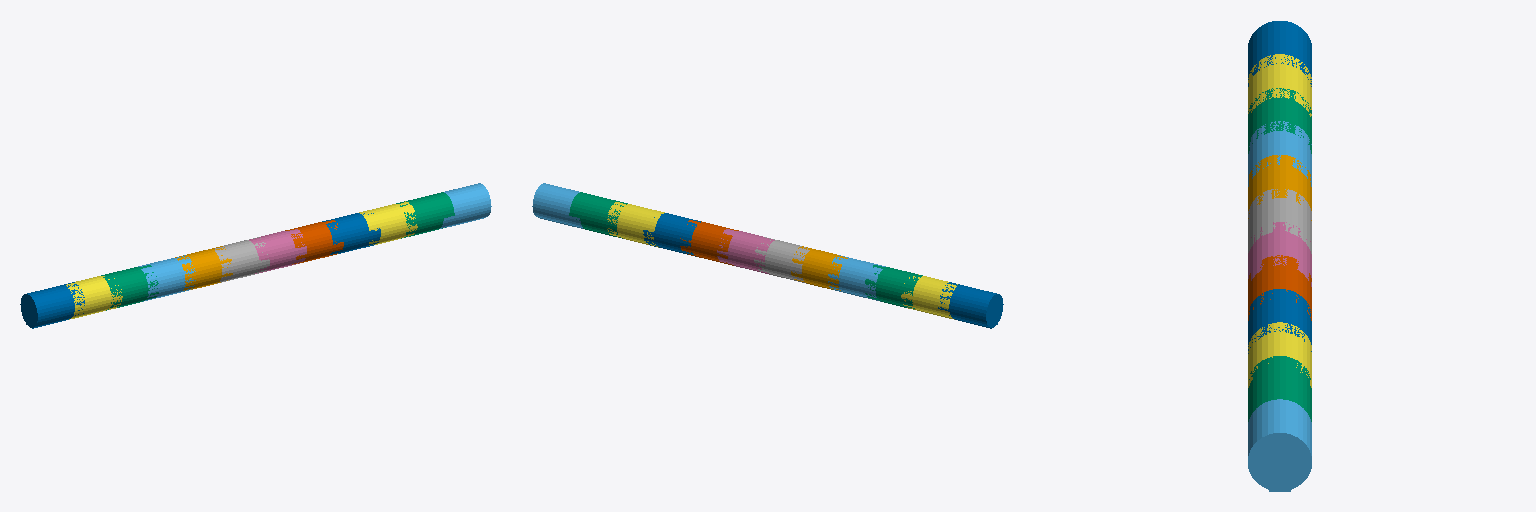
URDF robot description (kiro_v2):
<?xml version="1.0" ?>
<robot name="kiro_v2">

  <!-- URDF -->
  <!-- Author : [author] -->
  <!-- Created Date : 2020 OCTOBER -->
  <!-- E-mail : [email redacted] -->
  <link name="base_footprint"/>

  <joint name="base_joint" type="fixed">
    <parent link="base_footprint"/>
    <child link="1_head"/>
    <origin xyz="0.0 0.0 0.0" rpy="0.0 0.0 0.0"/>
  </joint>

  <link name="1_head">
    <inertial>
      <mass value="0.192"/>
      <origin rpy="0  0  0" xyz="0  0  0"/>
      <inertia ixx="390949e-9" ixy="-59e-9" ixz="346e-9" iyy="400197e-9" iyz="355e-9" izz="73725e-9"/>
    </inertial>
    <collision name="1_head_collision">
      <origin rpy="0       1.57079  0" xyz="0     0     0.029"/>
      <geometry>
        <cylinder length=".092" radius=".029"/>
      </geometry>
    </collision>
    <collision name="1_head_pad_collision">
      <origin rpy="0       1.57079  0" xyz="0      0      0.0025"/>
      <geometry>
        <box size="0.005 0.020 0.092"/>
      </geometry>
    </collision>
    <visual name="1_head_visual">
      <origin rpy="0       1.57079  0" xyz="0     0     0.029"/>
      <geometry>
        <cylinder length=".092" radius=".029"/>
      </geometry>
      <material name="light_black"/>
    </visual>
    <visual name="1_head_pad_visual">
      <origin rpy="0       1.57079  0" xyz="0      0      0.0025"/>
      <geometry>
        <box size="0.005 0.020 0.092"/>
      </geometry>
    </visual>
  </link>

  <link name="2_link">
    <inertial>
      <mass value="0.192"/>
      <origin rpy="0  0  0" xyz="0  0  0"/>
      <inertia ixx="390949e-9" ixy="-59e-9" ixz="346e-9" iyy="400197e-9" iyz="355e-9" izz="73725e-9"/>
    </inertial>
    <collision name="2_link_collision">
      <origin rpy="0  0  0" xyz="0     0    -0.046"/>
      <geometry>
        <cylinder length=".071" radius=".029"/>
      </geometry>
    </collision>
    <collision name="2_link_pad_collision">
      <origin rpy="0  0  0" xyz="0.0265  0     -0.046"/>
      <geometry>
        <box size="0.005 0.020 0.071"/>
      </geometry>
    </collision>
    <visual name="2_link_visual">
      <origin rpy="0  0  0" xyz="0       0      -0.03549"/>
      <geometry>
        <cylinder length=".092" radius=".029"/>
      </geometry>
    </visual>
    <visual name="2_link_pad_visual">
      <origin rpy="0  0  0" xyz="0.0265   0      -0.03549"/>
      <geometry>
        <box size="0.005 0.020 0.092"/>
      </geometry>
    </visual>
  </link>

  <link name="3_link">
    <inertial>
      <mass value="0.192"/>
      <origin rpy="0  0  0" xyz="0  0  0"/>
      <inertia ixx="390949e-9" ixy="-59e-9" ixz="346e-9" iyy="400197e-9" iyz="355e-9" izz="73725e-9"/>
    </inertial>
    <collision name="3_link_collision">
      <origin rpy="0  0  0" xyz="0     0    -0.046"/>
      <geometry>
        <cylinder length=".071" radius=".029"/>
      </geometry>
    </collision>
    <collision name="3_link_pad_collision">
      <origin rpy="0  0  0" xyz="0.0265  0     -0.046"/>
      <geometry>
        <box size="0.005 0.020 0.071"/>
      </geometry>
    </collision>
    <visual name="3_link_visual">
      <origin rpy="0  0  0" xyz="0       0      -0.03549"/>
      <geometry>
        <cylinder length=".092" radius=".029"/>
      </geometry>
      <material name="light_black"/>
    </visual>
    <visual name="3_link_pad_visual">
      <origin rpy="0  0  0" xyz="0.0265   0      -0.03549"/>
      <geometry>
        <box size="0.005 0.020 0.092"/>
      </geometry>
    </visual>
  </link>

  <link name="4_link">
    <inertial>
      <mass value="0.192"/>
      <origin rpy="0  0  0" xyz="0  0  0"/>
      <inertia ixx="390949e-9" ixy="-59e-9" ixz="346e-9" iyy="400197e-9" iyz="355e-9" izz="73725e-9"/>
    </inertial>
    <collision name="4_link_collision">
      <origin rpy="0  0  0" xyz="0     0    -0.046"/>
      <geometry>
        <cylinder length=".071" radius=".029"/>
      </geometry>
    </collision>
    <collision name="4_link_pad_collision">
      <origin rpy="0  0  0" xyz="0.0265  0     -0.046"/>
      <geometry>
        <box size="0.005 0.020 0.071"/>
      </geometry>
    </collision>
    <visual name="4_link_visual">
      <origin rpy="0  0  0" xyz="0       0      -0.03549"/>
      <geometry>
        <cylinder length=".092" radius=".029"/>
      </geometry>
    </visual>
    <visual name="4_link_pad_visual">
      <origin rpy="0  0  0" xyz="0.0265   0      -0.03549"/>
      <geometry>
        <box size="0.005 0.020 0.092"/>
      </geometry>
    </visual>
  </link>

  <link name="5_link">
    <inertial>
      <mass value="0.192"/>
      <origin rpy="0  0  0" xyz="0  0  0"/>
      <inertia ixx="390949e-9" ixy="-59e-9" ixz="346e-9" iyy="400197e-9" iyz="355e-9" izz="73725e-9"/>
    </inertial>
    <collision name="5_link_collision">
      <origin rpy="0  0  0" xyz="0     0    -0.046"/>
      <geometry>
        <cylinder length=".071" radius=".029"/>
      </geometry>
    </collision>
    <collision name="5_link_pad_collision">
      <origin rpy="0  0  0" xyz="0.0265  0     -0.046"/>
      <geometry>
        <box size="0.005 0.020 0.071"/>
      </geometry>
    </collision>
    <visual name="5_link_visual">
      <origin rpy="0  0  0" xyz="0       0      -0.03549"/>
      <geometry>
        <cylinder length=".092" radius=".029"/>
      </geometry>
      <material name="light_black"/>
    </visual>
    <visual name="5_link_pad_visual">
      <origin rpy="0  0  0" xyz="0.0265   0      -0.03549"/>
      <geometry>
        <box size="0.005 0.020 0.092"/>
      </geometry>
    </visual>
  </link>

  <link name="6_link">
    <inertial>
      <mass value="0.192"/>
      <origin rpy="0  0  0" xyz="0  0  0"/>
      <inertia ixx="390949e-9" ixy="-59e-9" ixz="346e-9" iyy="400197e-9" iyz="355e-9" izz="73725e-9"/>
    </inertial>
    <collision name="6_link_collision">
      <origin rpy="0  0  0" xyz="0     0    -0.046"/>
      <geometry>
        <cylinder length=".071" radius=".029"/>
      </geometry>
    </collision>
    <collision name="6_link_pad_collision">
      <origin rpy="0  0  0" xyz="0.0265  0     -0.046"/>
      <geometry>
        <box size="0.005 0.020 0.071"/>
      </geometry>
    </collision>
    <visual name="6_link_visual">
      <origin rpy="0  0  0" xyz="0       0      -0.03549"/>
      <geometry>
        <cylinder length=".092" radius=".029"/>
      </geometry>
    </visual>
    <visual name="6_link_pad_visual">
      <origin rpy="0  0  0" xyz="0.0265   0      -0.03549"/>
      <geometry>
        <box size="0.005 0.020 0.092"/>
      </geometry>
    </visual>
  </link>

  <link name="7_link">
    <inertial>
      <mass value="0.192"/>
      <origin rpy="0  0  0" xyz="0  0  0"/>
      <inertia ixx="390949e-9" ixy="-59e-9" ixz="346e-9" iyy="400197e-9" iyz="355e-9" izz="73725e-9"/>
    </inertial>
    <collision name="7_link_collision">
      <origin rpy="0  0  0" xyz="0     0    -0.046"/>
      <geometry>
        <cylinder length=".071" radius=".029"/>
      </geometry>
    </collision>
    <collision name="7_link_pad_collision">
      <origin rpy="0  0  0" xyz="0.0265  0     -0.046"/>
      <geometry>
        <box size="0.005 0.020 0.071"/>
      </geometry>
    </collision>
    <visual name="7_link_visual">
      <origin rpy="0  0  0" xyz="0       0      -0.03549"/>
      <geometry>
        <cylinder length=".092" radius=".029"/>
      </geometry>
      <material name="light_black"/>
    </visual>
    <visual name="7_link_pad_visual">
      <origin rpy="0  0  0" xyz="0.0265   0      -0.03549"/>
      <geometry>
        <box size="0.005 0.020 0.092"/>
      </geometry>
    </visual>
  </link>

  <link name="8_link">
    <inertial>
      <mass value="0.192"/>
      <origin rpy="0  0  0" xyz="0  0  0"/>
      <inertia ixx="390949e-9" ixy="-59e-9" ixz="346e-9" iyy="400197e-9" iyz="355e-9" izz="73725e-9"/>
    </inertial>
    <collision name="8_link_collision">
      <origin rpy="0  0  0" xyz="0     0    -0.046"/>
      <geometry>
        <cylinder length=".071" radius=".029"/>
      </geometry>
    </collision>
    <collision name="8_link_pad_collision">
      <origin rpy="0  0  0" xyz="0.0265  0     -0.046"/>
      <geometry>
        <box size="0.005 0.020 0.071"/>
      </geometry>
    </collision>
    <visual name="8_link_visual">
      <origin rpy="0  0  0" xyz="0       0      -0.03549"/>
      <geometry>
        <cylinder length=".092" radius=".029"/>
      </geometry>
    </visual>
    <visual name="8_link_pad_visual">
      <origin rpy="0  0  0" xyz="0.0265   0      -0.03549"/>
      <geometry>
        <box size="0.005 0.020 0.092"/>
      </geometry>
    </visual>
  </link>

  <link name="9_link">
    <inertial>
      <mass value="0.192"/>
      <origin rpy="0  0  0" xyz="0  0  0"/>
      <inertia ixx="390949e-9" ixy="-59e-9" ixz="346e-9" iyy="400197e-9" iyz="355e-9" izz="73725e-9"/>
    </inertial>
    <collision name="9_link_collision">
      <origin rpy="0  0  0" xyz="0     0    -0.046"/>
      <geometry>
        <cylinder length=".071" radius=".029"/>
      </geometry>
    </collision>
    <collision name="9_link_pad_collision">
      <origin rpy="0  0  0" xyz="0.0265  0     -0.046"/>
      <geometry>
        <box size="0.005 0.020 0.071"/>
      </geometry>
    </collision>
    <visual name="9_link_visual">
      <origin rpy="0  0  0" xyz="0       0      -0.03549"/>
      <geometry>
        <cylinder length=".092" radius=".029"/>
      </geometry>
      <material name="light_black"/>
    </visual>
    <visual name="9_link_pad_visual">
      <origin rpy="0  0  0" xyz="0.0265   0      -0.03549"/>
      <geometry>
        <box size="0.005 0.020 0.092"/>
      </geometry>
    </visual>
  </link>

  <link name="10_link">
    <inertial>
      <mass value="0.192"/>
      <origin rpy="0  0  0" xyz="0  0  0"/>
      <inertia ixx="390949e-9" ixy="-59e-9" ixz="346e-9" iyy="400197e-9" iyz="355e-9" izz="73725e-9"/>
    </inertial>
    <collision name="10_link_collision">
      <origin rpy="0  0  0" xyz="0     0    -0.046"/>
      <geometry>
        <cylinder length=".071" radius=".029"/>
      </geometry>
    </collision>
    <collision name="10_link_pad_collision">
      <origin rpy="0  0  0" xyz="0.0265  0     -0.046"/>
      <geometry>
        <box size="0.005 0.020 0.071"/>
      </geometry>
    </collision>
    <visual name="10_link_visual">
      <origin rpy="0  0  0" xyz="0       0      -0.03549"/>
      <geometry>
        <cylinder length=".092" radius=".029"/>
      </geometry>
    </visual>
    <visual name="10_link_pad_visual">
      <origin rpy="0  0  0" xyz="0.0265   0      -0.03549"/>
      <geometry>
        <box size="0.005 0.020 0.092"/>
      </geometry>
    </visual>
  </link>

  <link name="11_link">
    <inertial>
      <mass value="0.192"/>
      <origin rpy="0  0  0" xyz="0  0  0"/>
      <inertia ixx="390949e-9" ixy="-59e-9" ixz="346e-9" iyy="400197e-9" iyz="355e-9" izz="73725e-9"/>
    </inertial>
    <collision name="11_link_collision">
      <origin rpy="0  0  0" xyz="0     0    -0.046"/>
      <geometry>
        <cylinder length=".071" radius=".029"/>
      </geometry>
    </collision>
    <collision name="11_link_pad_collision">
      <origin rpy="0  0  0" xyz="0.0265  0     -0.046"/>
      <geometry>
        <box size="0.005 0.020 0.071"/>
      </geometry>
    </collision>
    <visual name="11_link_visual">
      <origin rpy="0  0  0" xyz="0       0      -0.03549"/>
      <geometry>
        <cylinder length=".092" radius=".029"/>
      </geometry>
      <material name="light_black"/>
    </visual>
    <visual name="11_link_pad_visual">
      <origin rpy="0  0  0" xyz="0.0265   0      -0.03549"/>
      <geometry>
        <box size="0.005 0.020 0.092"/>
      </geometry>
    </visual>
  </link>

  <link name="12_tail">
    <inertial>
      <mass value="0.192"/>
      <origin rpy="0  0  0" xyz="0  0  0"/>
      <inertia ixx="390949e-9" ixy="-59e-9" ixz="346e-9" iyy="400197e-9" iyz="355e-9" izz="73725e-9"/>
    </inertial>
    <collision name="12_tail_collision">
      <origin rpy="0  0  0" xyz="0     0    -0.046"/>
      <geometry>
        <cylinder length=".071" radius=".029"/>
      </geometry>
    </collision>
    <collision name="12_tail_pad_collision">
      <origin rpy="0  0  0" xyz="0.0265  0     -0.046"/>
      <geometry>
        <box size="0.005 0.020 0.071"/>
      </geometry>
    </collision>
    <visual name="12_tail_visual">
      <origin rpy="0  0  0" xyz="0       0      -0.03549"/>
      <geometry>
        <cylinder length=".092" radius=".029"/>
      </geometry>
    </visual>
    <visual name="12_tail_pad_visual">
      <origin rpy="0  0  0" xyz="0.0265   0      -0.03549"/>
      <geometry>
        <box size="0.005 0.020 0.092"/>
      </geometry>
    </visual>
  </link>

  <joint name="1_joint" type="revolute">
    <parent link="1_head"/>
    <child link="2_link"/>
    <origin rpy="0       1.57079  0" xyz="-0.03549  0       0.029"/>
    <axis xyz="0  1  0"/>
    <limit effort="1.70775" lower="-1.57079632679" upper="1.57079632679" velocity="4.2"/>
  </joint>

  <joint name="2_joint" type="revolute">
    <parent link="2_link"/>
    <child link="3_link"/>
    <origin rpy="0  0  0" xyz="0       0      -0.07099"/>
    <axis xyz="-1  0  0"/>
    <limit effort="1.70775" lower="-1.57079632679" upper="1.57079632679" velocity="4.2"/>
  </joint>

  <joint name="3_joint" type="revolute">
    <parent link="3_link"/>
    <child link="4_link"/>
    <origin rpy="0  0  0" xyz="0       0      -0.07099"/>
    <axis xyz="0  1  0"/>
    <limit effort="1.70775" lower="-1.57079632679" upper="1.57079632679" velocity="4.2"/>
  </joint>

  <joint name="4_joint" type="revolute">
    <parent link="4_link"/>
    <child link="5_link"/>
    <origin rpy="0  0  0" xyz="0       0      -0.07099"/>
    <axis xyz="-1  0  0"/>
    <limit effort="1.70775" lower="-1.57079632679" upper="1.57079632679" velocity="4.2"/>
  </joint>

  <joint name="5_joint" type="revolute">
    <parent link="5_link"/>
    <child link="6_link"/>
    <origin rpy="0  0  0" xyz="0       0      -0.07099"/>
    <axis xyz="0  1  0"/>
    <limit effort="1.70775" lower="-1.57079632679" upper="1.57079632679" velocity="4.2"/>
  </joint>

  <joint name="6_joint" type="revolute">
    <parent link="6_link"/>
    <child link="7_link"/>
    <origin rpy="0  0  0" xyz="0       0      -0.07099"/>
    <axis xyz="-1  0  0"/>
    <limit effort="1.70775" lower="-1.57079632679" upper="1.57079632679" velocity="4.2"/>
  </joint>

  <joint name="7_joint" type="revolute">
    <parent link="7_link"/>
    <child link="8_link"/>
    <origin rpy="0  0  0" xyz="0       0      -0.07099"/>
    <axis xyz="0  1  0"/>
    <limit effort="1.70775" lower="-1.57079632679" upper="1.57079632679" velocity="4.2"/>
  </joint>

  <joint name="8_joint" type="revolute">
    <parent link="8_link"/>
    <child link="9_link"/>
    <origin rpy="0  0  0" xyz="0       0      -0.07099"/>
    <axis xyz="-1  0  0"/>
    <limit effort="1.70775" lower="-1.57079632679" upper="1.57079632679" velocity="4.2"/>
  </joint>

  <joint name="9_joint" type="revolute">
    <parent link="9_link"/>
    <child link="10_link"/>
    <origin rpy="0  0  0" xyz="0       0      -0.07099"/>
    <axis xyz="0  1  0"/>
    <limit effort="1.70775" lower="-1.57079632679" upper="1.57079632679" velocity="4.2"/>
  </joint>

  <joint name="10_joint" type="revolute">
    <parent link="10_link"/>
    <child link="11_link"/>
    <origin rpy="0  0  0" xyz="0       0      -0.07099"/>
    <axis xyz="-1  0  0"/>
    <limit effort="1.70775" lower="-1.57079632679" upper="1.57079632679" velocity="4.2"/>
  </joint>

  <joint name="11_joint" type="revolute">
    <parent link="11_link"/>
    <child link="12_tail"/>
    <origin rpy="0  0  0" xyz="0       0      -0.07099"/>
    <axis xyz="0  1  0"/>
    <limit effort="1.70775" lower="-1.57079632679" upper="1.57079632679" velocity="4.2"/>
  </joint>
  
  <!-- URDF END -->

</robot>

--- Facts derived from the render (not from the file) ---
The picture shows the robot from 3 angles, left to right: view 1: azimuth 30°, elevation 25°; view 2: azimuth 150°, elevation 25°; view 3: azimuth 270°, elevation 25°; orthographic projection.
Robot: kiro_v2 — 13 links, 12 joints (11 revolute, 1 fixed); root link base_footprint; default pose: all joints at 0.
Visible links, largest first — view 1: 12_tail, 1_head, 3_link, 2_link, 6_link, 7_link, 9_link, 4_link, 10_link, 11_link, 8_link, 5_link; view 2: 12_tail, 1_head, 2_link, 3_link, 9_link, 6_link, 10_link, 4_link, 7_link, 11_link, 8_link, 5_link; view 3: 1_head, 2_link, 7_link, 12_tail, 11_link, 4_link, 8_link, 9_link, 3_link, 10_link, 6_link, 5_link.
Boxes of the visible links, x1,y1,x2,y2 form: 12_tail: (20, 282, 84, 328); 1_head: (440, 183, 491, 228); 3_link: (359, 201, 417, 245); 2_link: (396, 192, 454, 238); 6_link: (249, 229, 306, 273); 7_link: (215, 237, 269, 283); 9_link: (138, 255, 195, 301); 4_link: (322, 213, 380, 254); 10_link: (101, 265, 158, 310); 11_link: (66, 276, 122, 319); 8_link: (175, 246, 232, 290); 5_link: (285, 220, 343, 264); 12_tail: (938, 282, 1003, 328); 1_head: (532, 183, 582, 228); 2_link: (569, 192, 627, 238); 3_link: (607, 202, 664, 247); 9_link: (828, 255, 885, 301); 6_link: (717, 229, 774, 274); 10_link: (865, 265, 922, 308); 4_link: (643, 213, 700, 256); 7_link: (754, 237, 809, 283); 11_link: (901, 274, 957, 319); 8_link: (791, 246, 847, 290); 5_link: (680, 220, 738, 265); 1_head: (1248, 399, 1311, 491); 2_link: (1248, 356, 1311, 421); 7_link: (1248, 189, 1311, 253); 12_tail: (1248, 21, 1311, 86); 11_link: (1248, 54, 1311, 116); 4_link: (1248, 289, 1311, 353); 8_link: (1248, 155, 1311, 220); 9_link: (1248, 121, 1311, 186); 3_link: (1248, 322, 1311, 387); 10_link: (1248, 88, 1311, 153); 6_link: (1248, 222, 1311, 286); 5_link: (1248, 255, 1311, 320).
Bounding box of the posed robot: 0.8729 × 0.058 × 0.058 m (x, y, z).
Geometry: primitives only (box / cylinder / sphere), no mesh files.